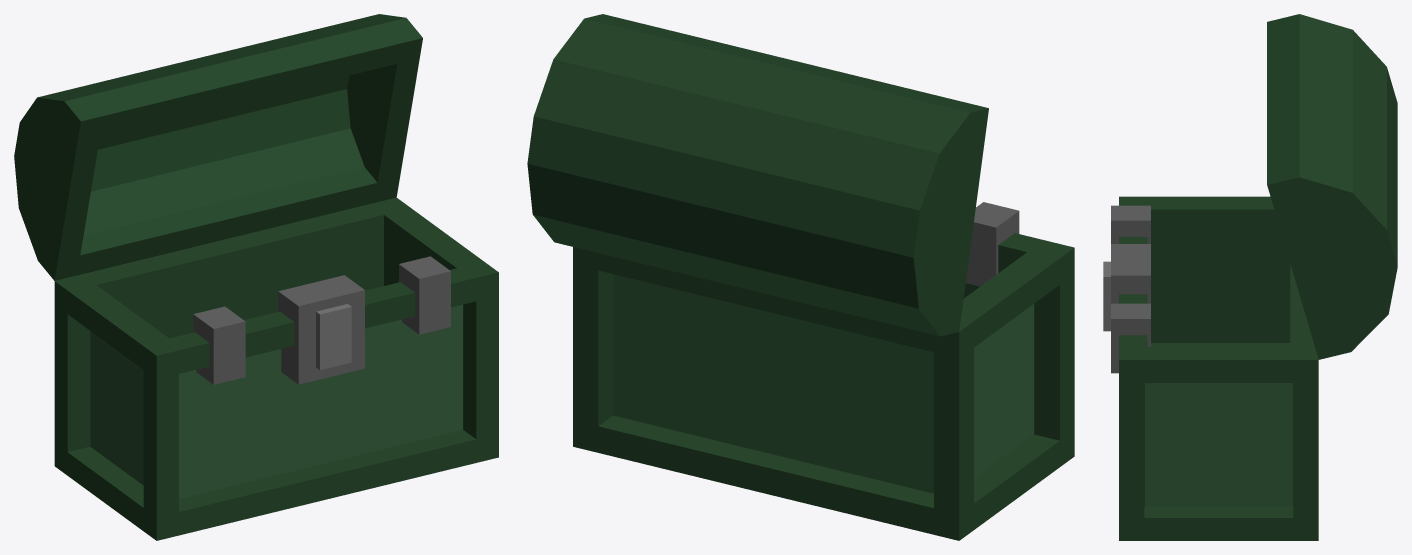
The model's file is Ship_032.glb.
The picture shows the model from 3 angles, left to right: view 1: azimuth 30°, elevation 25°; view 2: azimuth 150°, elevation 25°; view 3: azimuth 270°, elevation 25°; orthographic projection. The views are drawn at different scales.
Visible parts, largest first — view 1: Ship_032; view 2: Ship_032; view 3: Ship_032.
Boxes of the visible parts, <box> form: Ship_032: <box>14,14,498,540</box>; Ship_032: <box>527,14,1074,540</box>; Ship_032: <box>1103,14,1397,540</box>.
Bounding box in the file's own units: 1.1 × 1.15 × 0.8414.
Materials: 1 (1 with a texture image).
